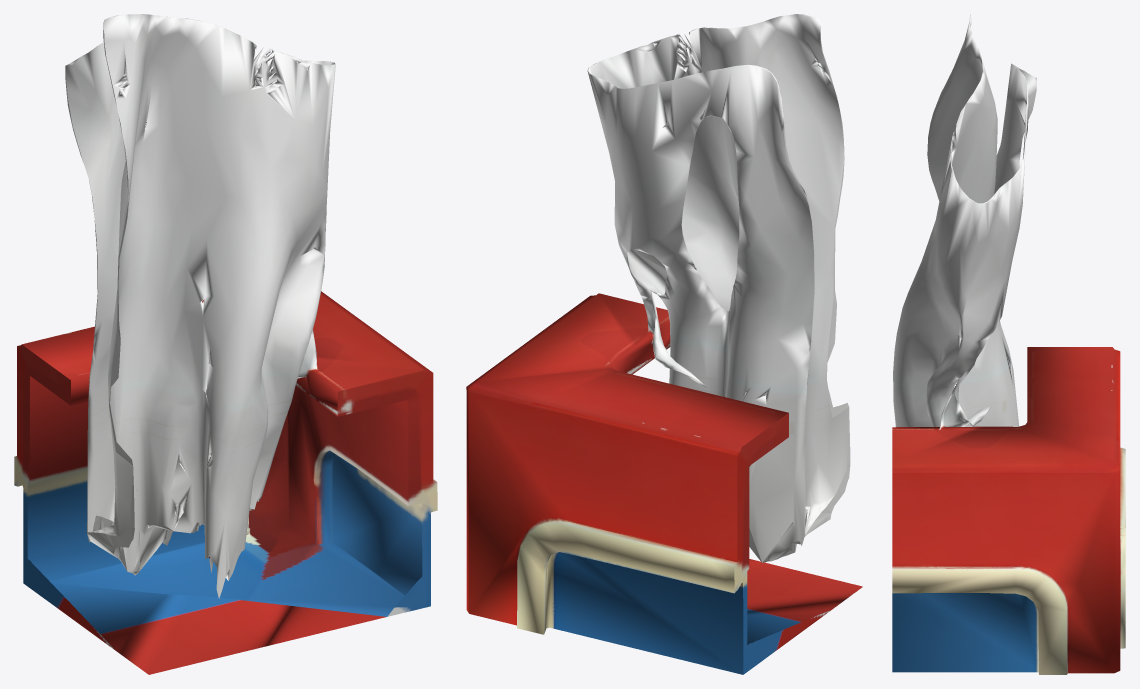
The model's file is 16-topper-back-right.fbx.
The picture shows the model from 3 angles, left to right: view 1: azimuth 30°, elevation 25°; view 2: azimuth 150°, elevation 25°; view 3: azimuth 270°, elevation 25°; orthographic projection. The views are drawn at different scales.
Visible parts, largest first — view 1: topper-back-right; view 2: topper-back-right; view 3: topper-back-right.
Part boxes in pixels (bbox=[...]): topper-back-right: bbox=[14, 14, 437, 674]; topper-back-right: bbox=[466, 14, 862, 674]; topper-back-right: bbox=[892, 14, 1125, 674].
Bounding box in the file's own units: 4802 × 9889 × 3873.
1 material, 1 textured.
